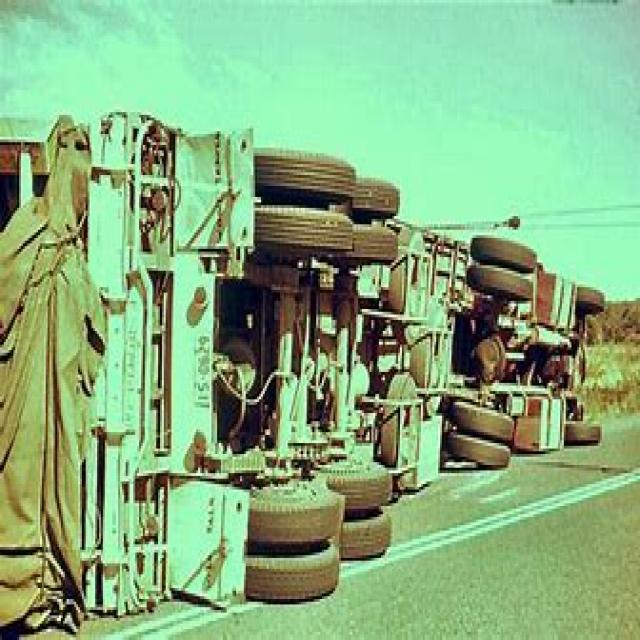Accident: (38, 73, 640, 558)
